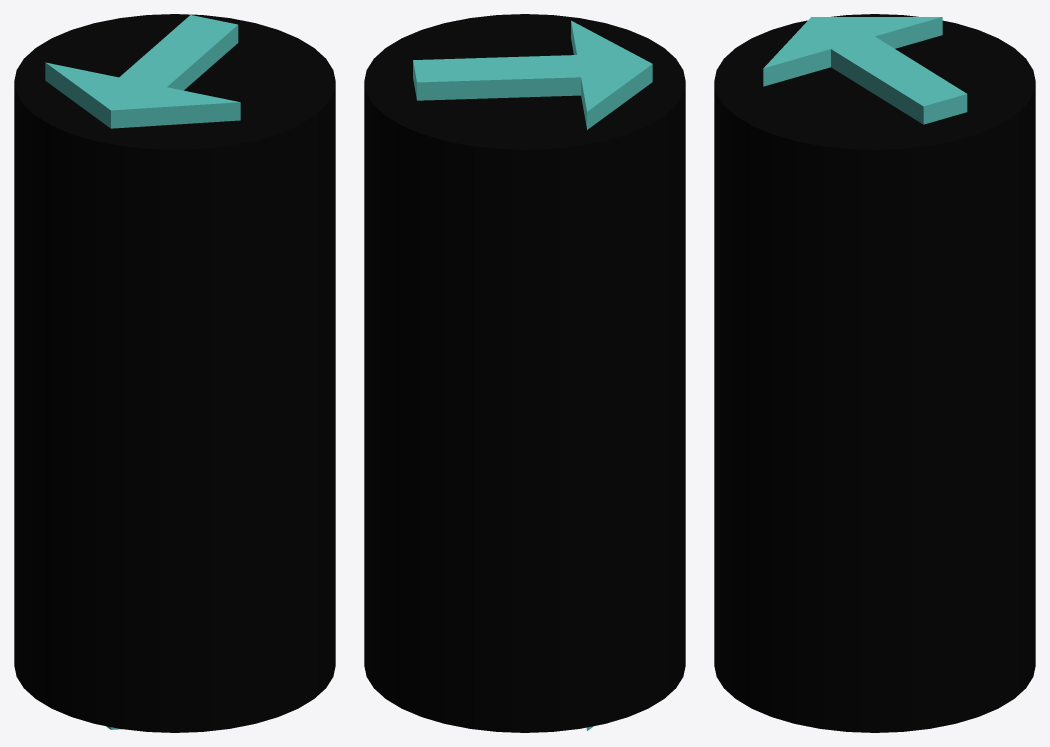
The picture shows the model from 3 angles, left to right: view 1: azimuth 30°, elevation 25°; view 2: azimuth 150°, elevation 25°; view 3: azimuth 270°, elevation 25°; orthographic projection.
Visible parts, largest first — view 1: Part 1, Part 2; view 2: Part 1, Part 2; view 3: Part 1, Part 2.
Part boxes in pixels (bbox=[...]): Part 1: bbox=[14, 14, 335, 732]; Part 2: bbox=[45, 15, 240, 729]; Part 1: bbox=[364, 14, 685, 732]; Part 2: bbox=[413, 20, 652, 730]; Part 1: bbox=[714, 14, 1035, 732]; Part 2: bbox=[763, 17, 967, 124].
Bounding box in the file's own units: 0.08 × 0.17 × 0.08.
